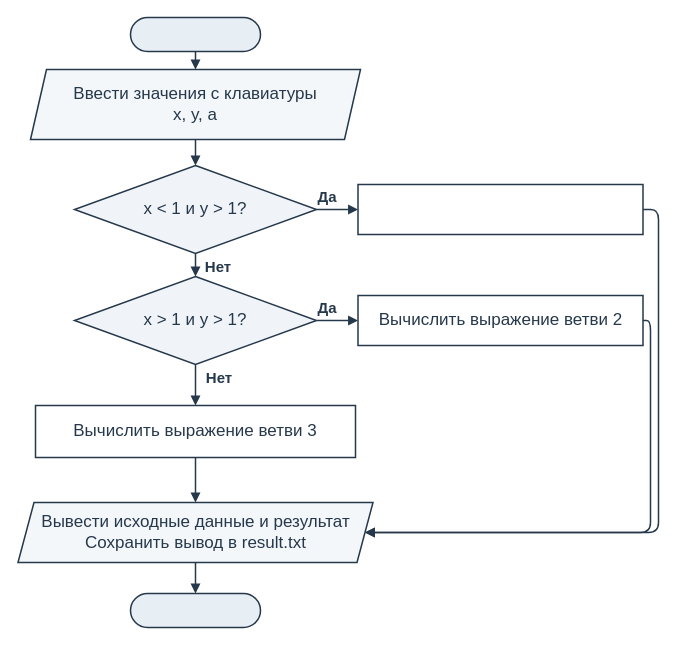
Some shapes in this 684 by 646 pixel diagram are drawn without their labels. Here are the shapes that lost their labels. From the top down, the centre of each, then its label:
(x=195, y=34): Начало
(x=500, y=209): Вычислить выражение ветви 1
(x=195, y=610): Конец
